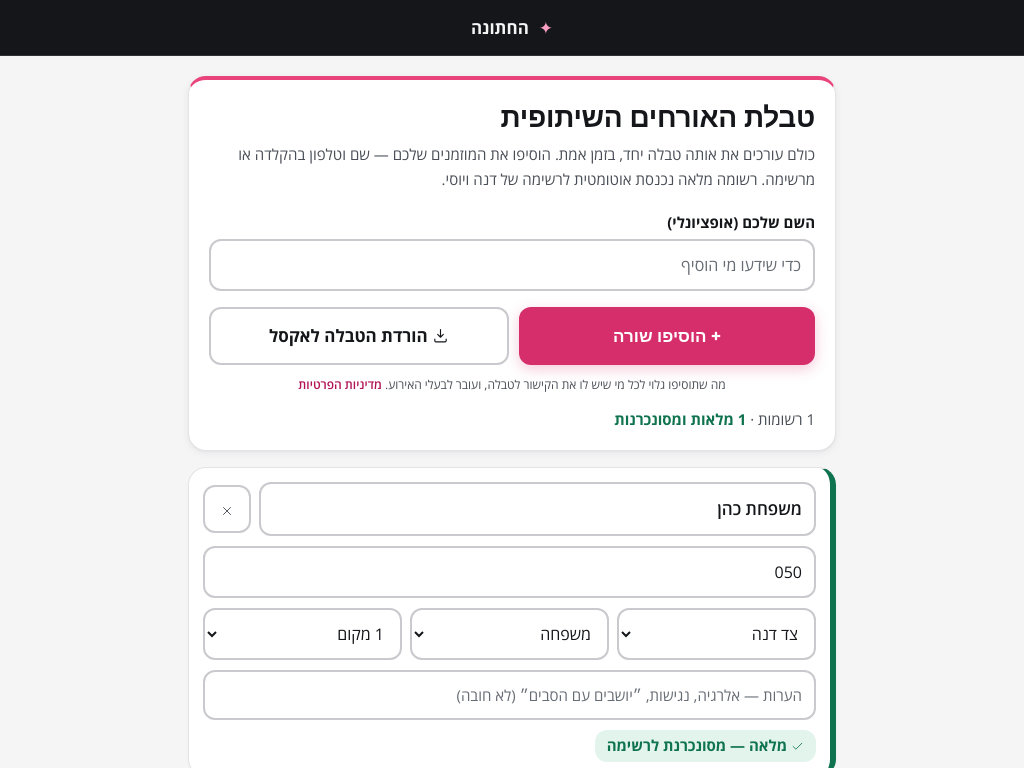
Test: shared table › an Excel download that fails says so (89)
This screenshot has width=1024, height=768.
Expected: the field showing "משפחת כהן" is shown, [259,482,816,536]
What coordinates should you click on to do the following:
click the button "הורדת הטבלה לאקסל"
I would click on:
 (359, 336)
Its box is [209,307,509,365].
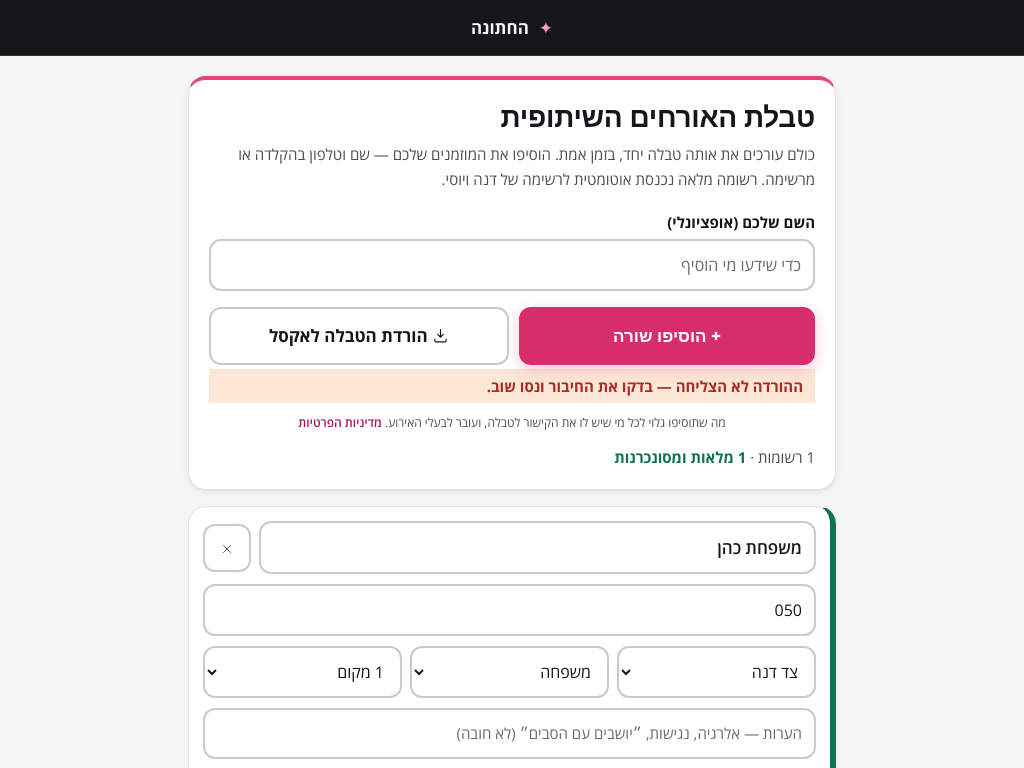
Result: the message shows "ההורדה לא הצליחה" at [487,376,803,396]
